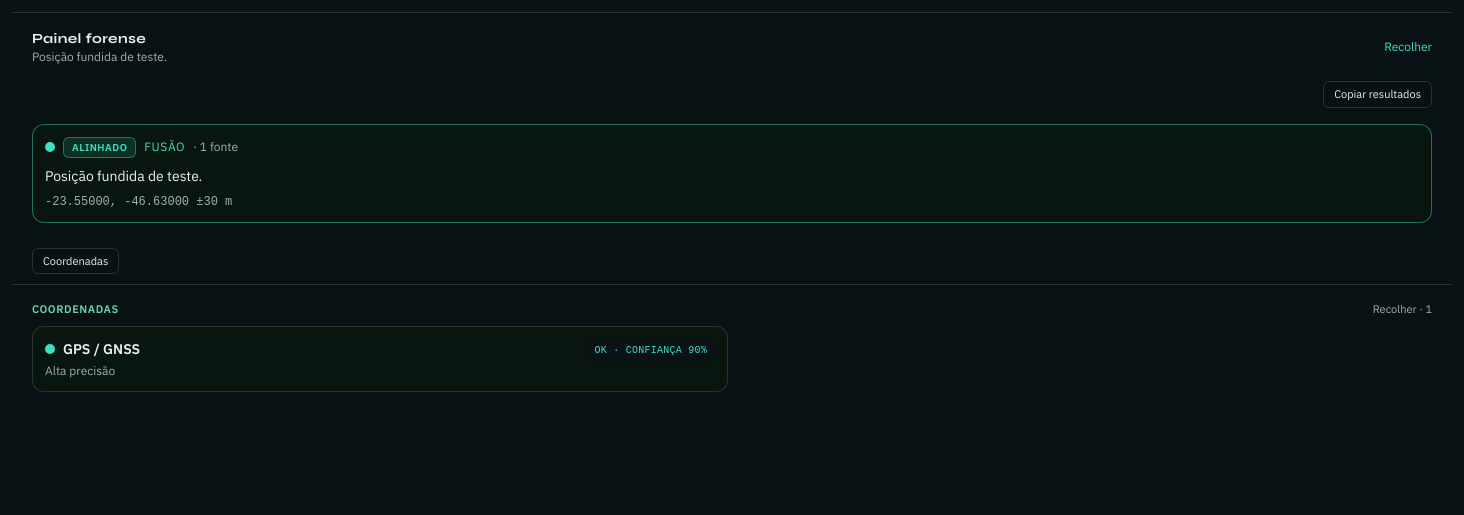
Test: ForensicsPanel › renders fused summary and expands signal evidence on demand
This screenshot has width=1464, height=515.
Expected: the 1st text "Posição fundida de teste." is shown, [32,49,167,65]
Expected: the text "Fusão" is shown, [144,139,185,155]
Click the button "GPS / GNSS Alta precisão ok · confiança 90%": (102, 348) [33,326,727,390]
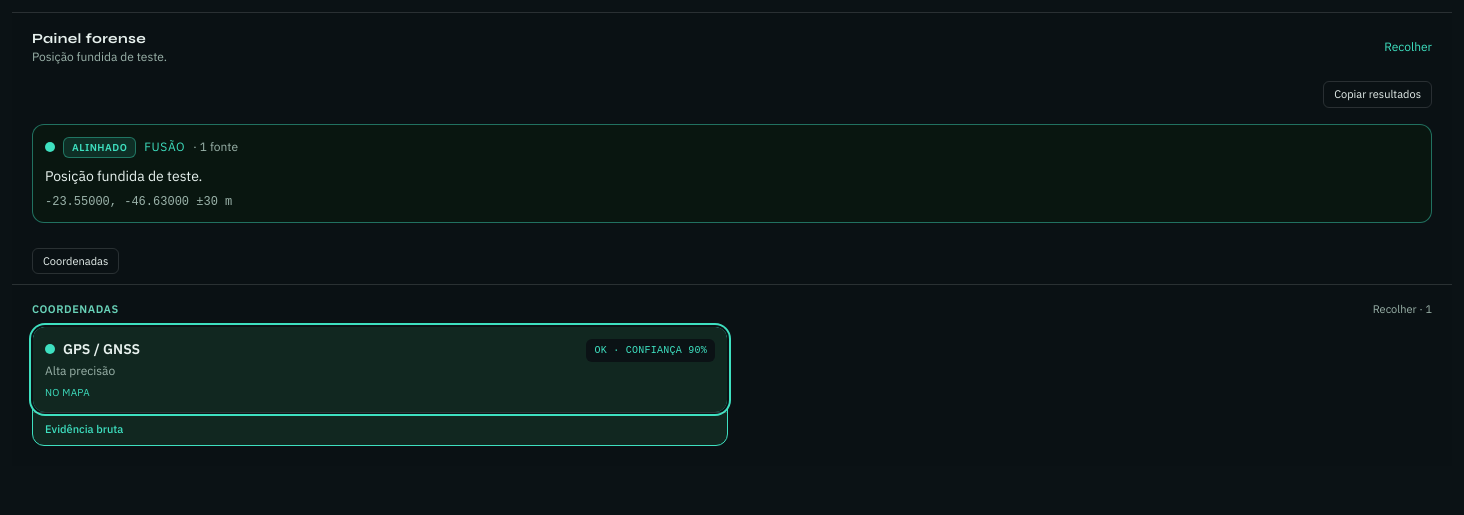
Expected: the text "\"accuracy\": 12" is not shown
Click the button "Evidência bruta": (84, 429) [45,420,123,437]
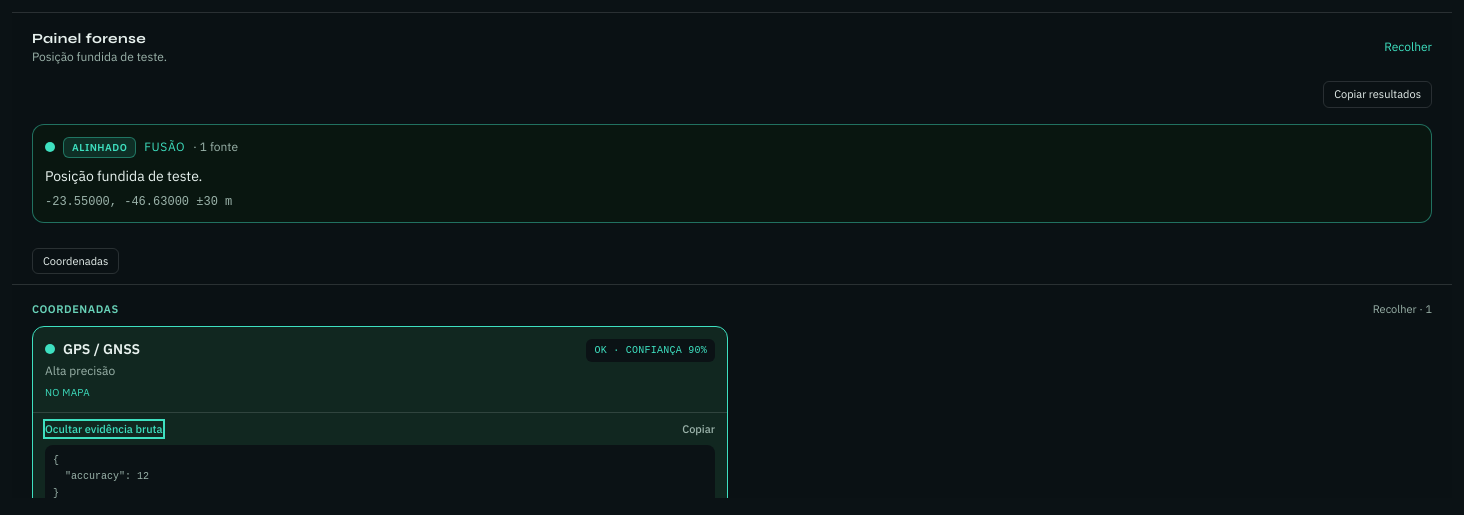
Result: the text "{ \"accuracy\": 12 }" is shown at [45,445,715,498]
